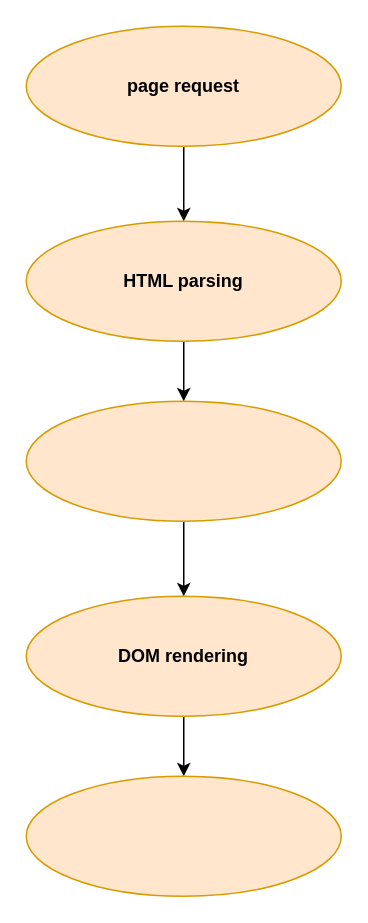
This 368x923 diagram has some shape labels left out. The shapes that lost their labels are listed below. From the top down, each one's box as (x1, y1, x2, y2) in pixels, then its label:
(25, 400, 341, 521): resourse loading
(25, 775, 341, 896): User interaction
